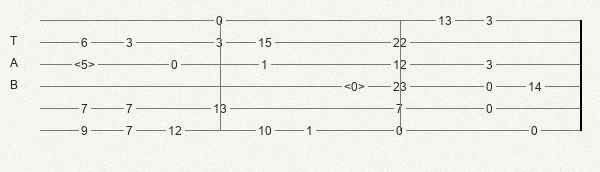0: (171, 58, 182, 71), (216, 14, 227, 27), (396, 124, 407, 137), (486, 102, 497, 115), (486, 80, 497, 93), (531, 124, 542, 137)
1: (261, 58, 272, 71), (306, 124, 317, 137)
10: (258, 124, 276, 137)
12: (168, 124, 186, 137), (393, 58, 411, 71)
13: (213, 102, 231, 115), (438, 14, 456, 27)
14: (528, 80, 546, 93)
15: (258, 36, 276, 49)
22: (393, 36, 411, 49)
23: (393, 80, 411, 93)
3: (126, 36, 137, 49), (216, 36, 227, 49), (486, 14, 497, 27), (486, 58, 497, 71)
6: (81, 36, 92, 49)
7: (81, 102, 92, 115), (126, 124, 137, 137), (126, 102, 137, 115), (396, 102, 407, 115)
9: (81, 124, 92, 137)
harmonic: (74, 58, 99, 71), (344, 80, 369, 93)
